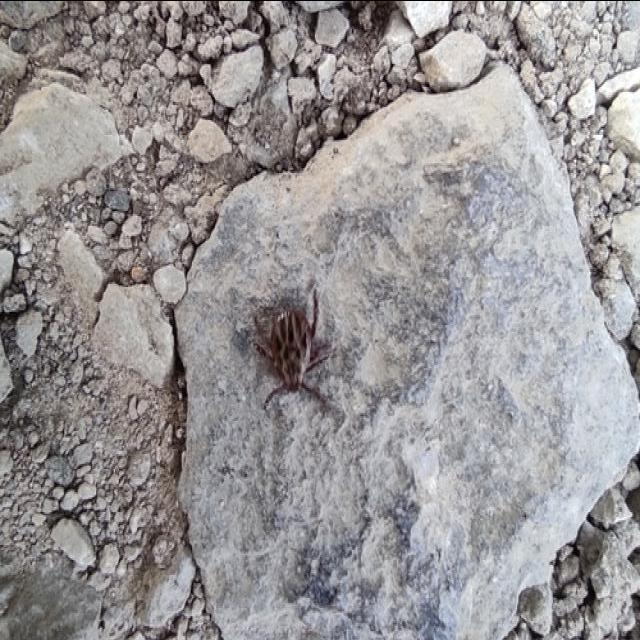Dermacentor Reticulatus-M: (244, 279, 330, 407)
